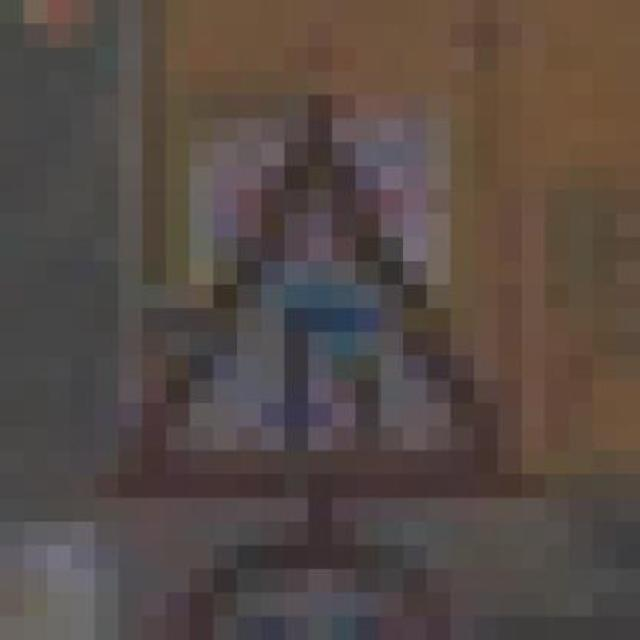-Road narrows on right: (94, 95, 546, 522)
